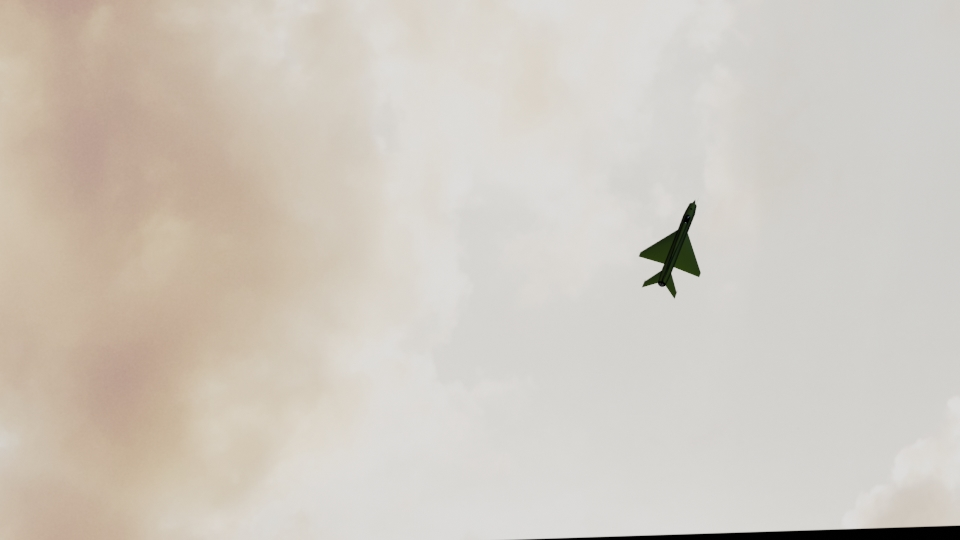plane: (639, 198, 701, 297)
